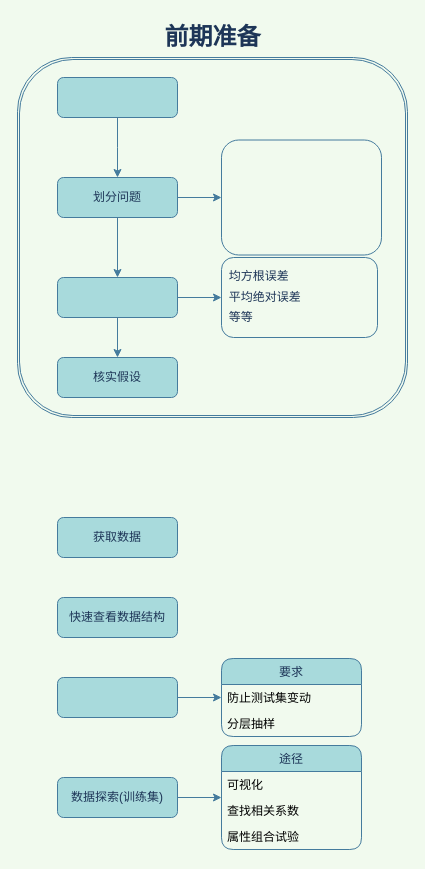
Image size: 425x869. Some labels were removed from this diagram. The shapes that lost their labels are listed below. From the top down, each one's centre as x and y in pixels, then its label:
At (117,97): "项目概览".
At (301,197): "监督学习or非监督学习 分类任务or回归任务 强化学习 批量学习or线上学习 等等".
At (117,297): "选择性能指标".
At (117,697): "创建测试集".
